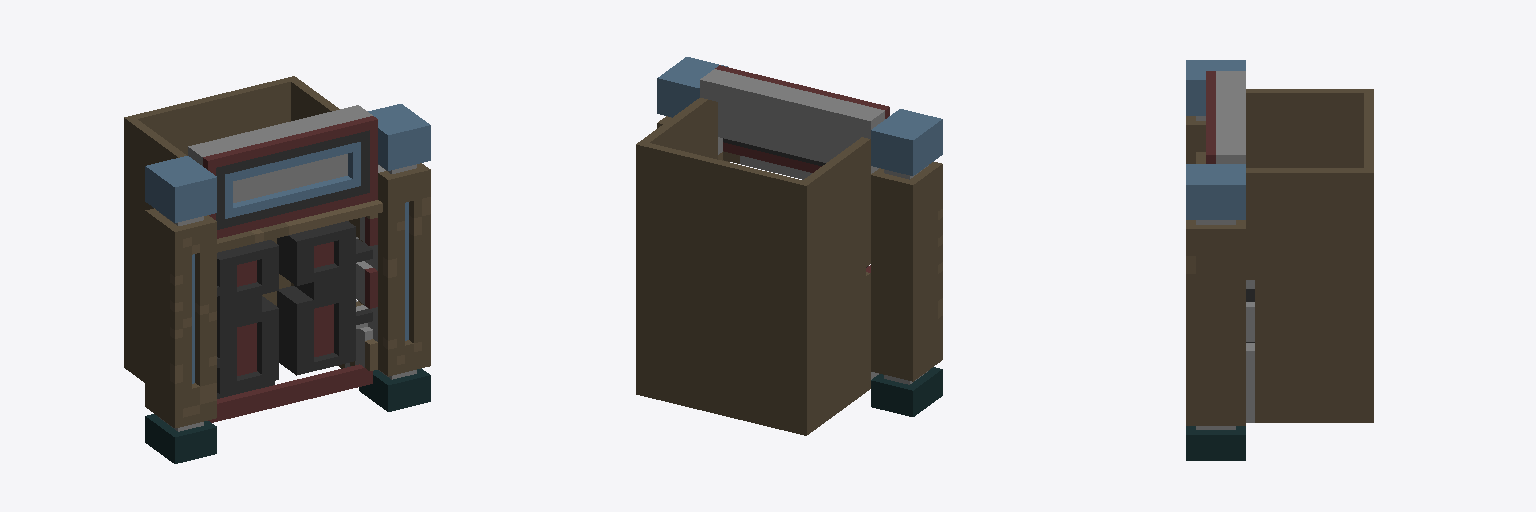
3 renders of one model, left to right at view 1: azimuth 30°, elevation 25°; view 2: azimuth 150°, elevation 25°; view 3: azimuth 270°, elevation 25°, orthographic.
Parts seen in each view (by area): view 1: object 1; view 2: object 1; view 3: object 1.
Boxes of the visible parts, x1=… form: object 1: x1=124, y1=76, x2=430, y2=463; object 1: x1=636, y1=57, x2=942, y2=435; object 1: x1=1186, y1=60, x2=1373, y2=460.
Size of the model in its own units: 3 by 3.2 by 1.9.
Materials: 1 (1 with a texture image).